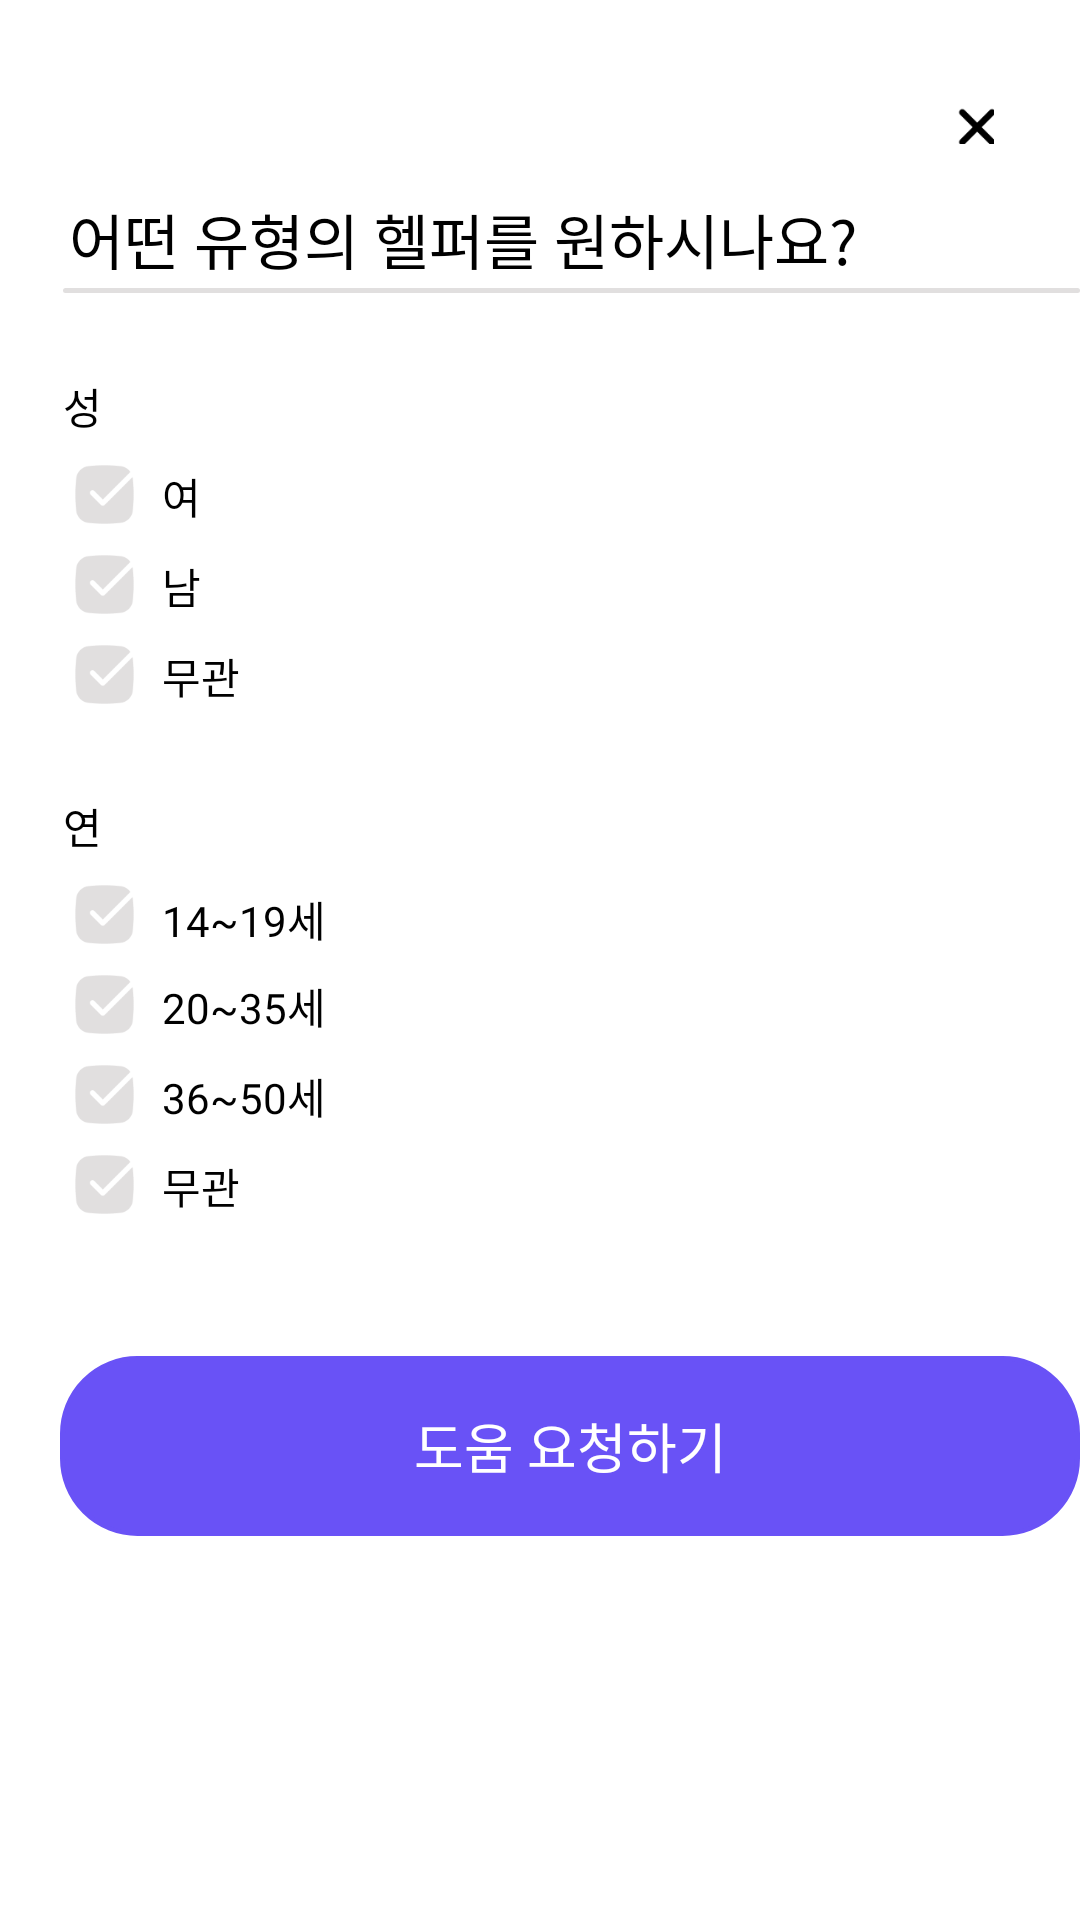

Locate icon controls on the screen. Image size 1080px x 1920px, boxes as box=[x1, y1, x2, y2].
check: box=[76, 466, 133, 523], box=[76, 556, 133, 613], box=[76, 646, 133, 703], box=[76, 886, 133, 943], box=[76, 976, 133, 1033], box=[76, 1066, 133, 1123], box=[76, 1156, 133, 1213]
